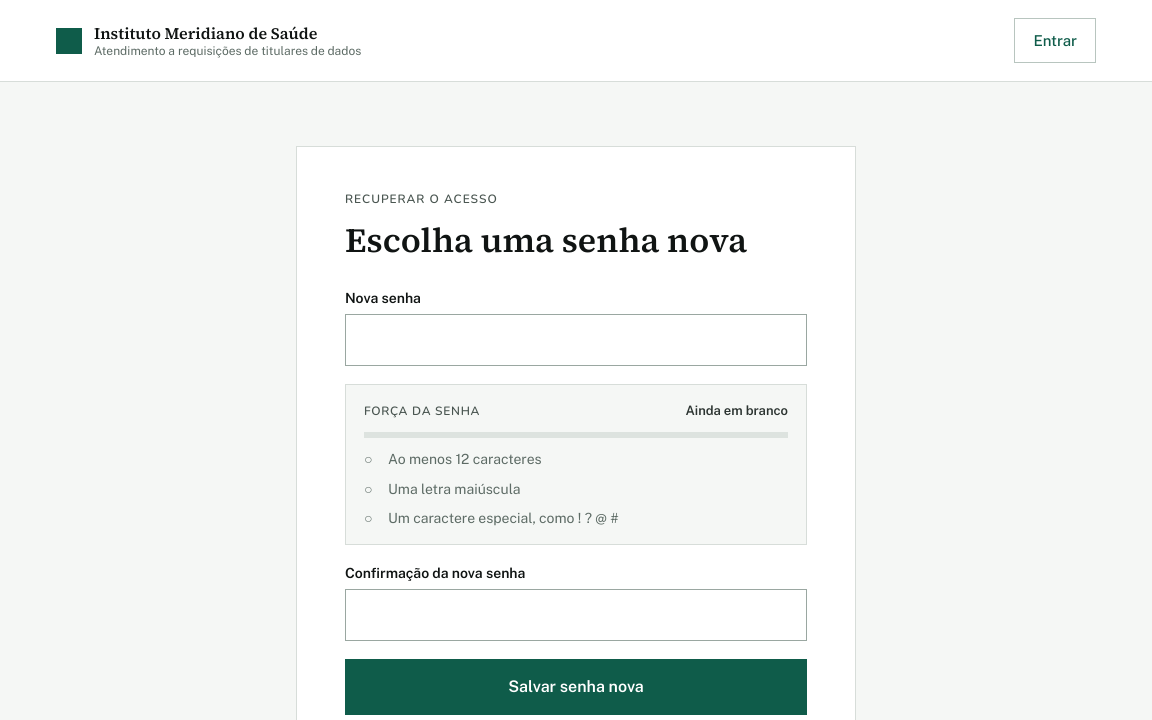
Test: Acesso à conta › redefine a senha pelo link do e-mail
Type "OutraSenhaForte#2026" into the password field labelled "Nova senha" at coordinates (576, 340), box [345,314,807,366]
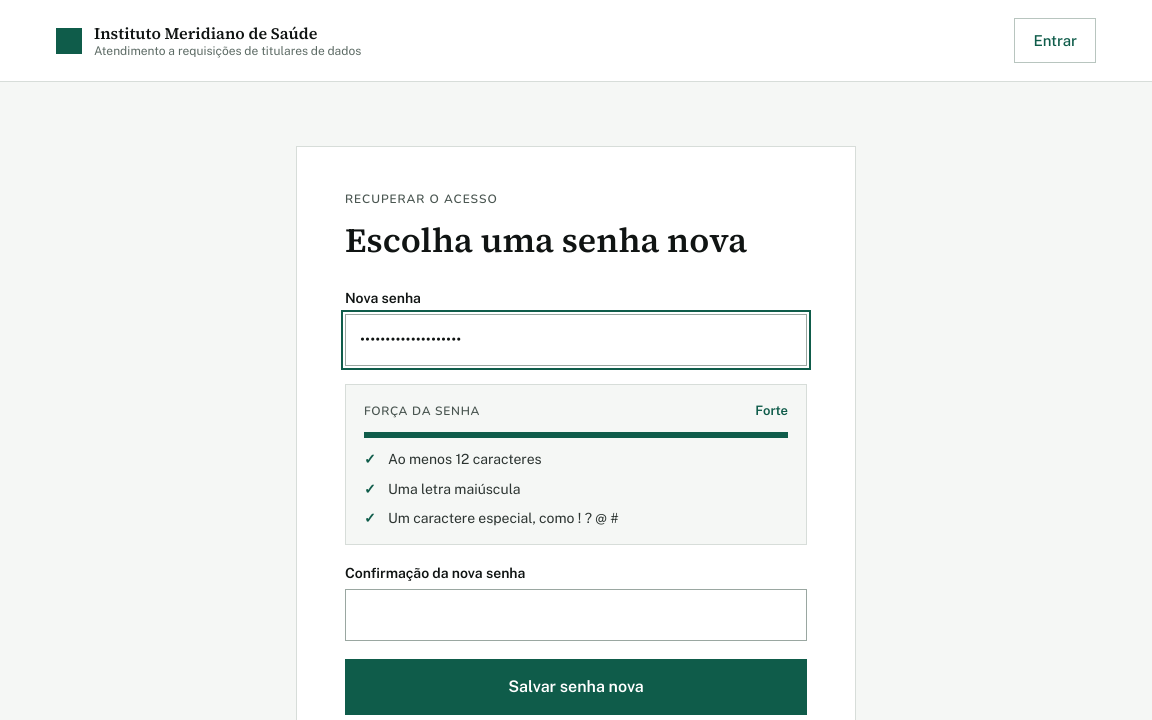
Type "OutraSenhaForte#2026" into the password field labelled "Confirmação da nova senha" at coordinates (576, 615), box [345,589,807,641]
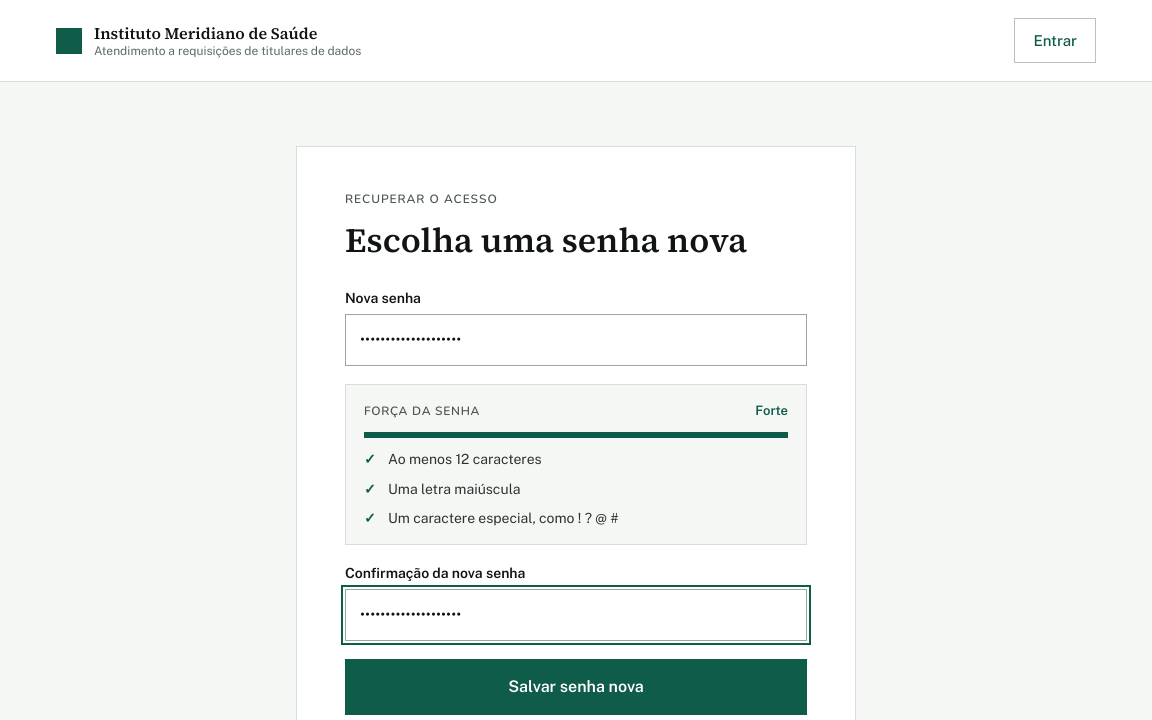
Click the button "Salvar senha nova" at coordinates (576, 687), box [345,659,807,715]
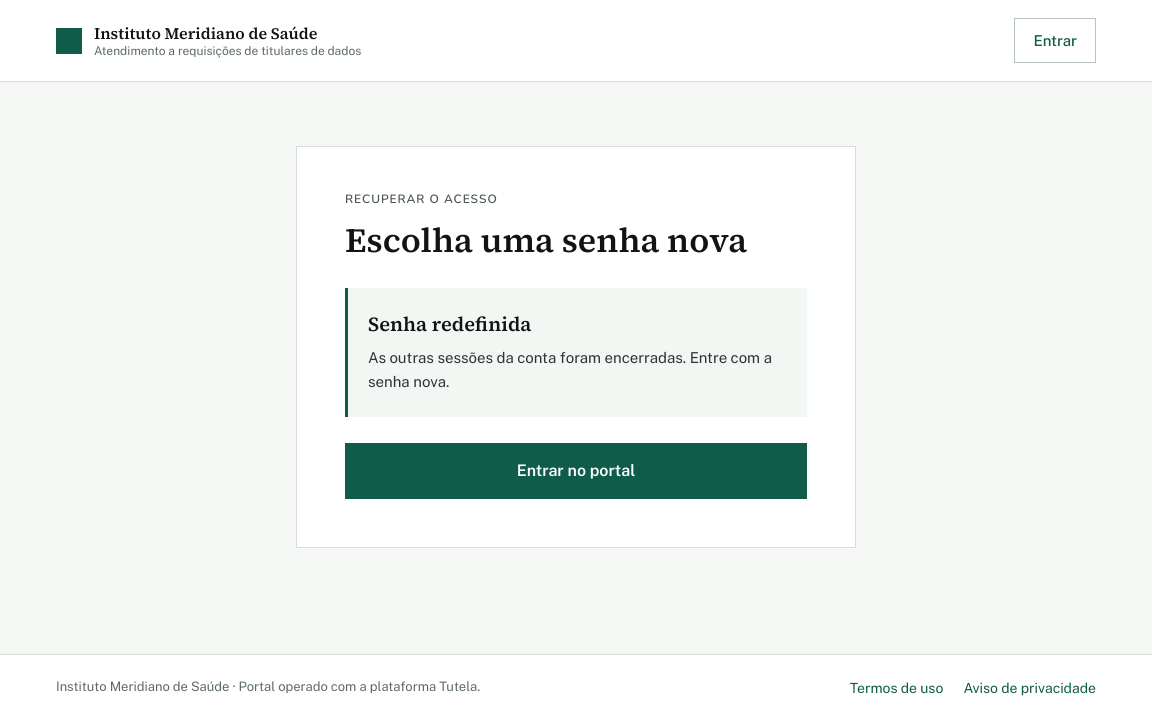
Expected: the text "Senha redefinida" is shown, [368,310,531,338]
